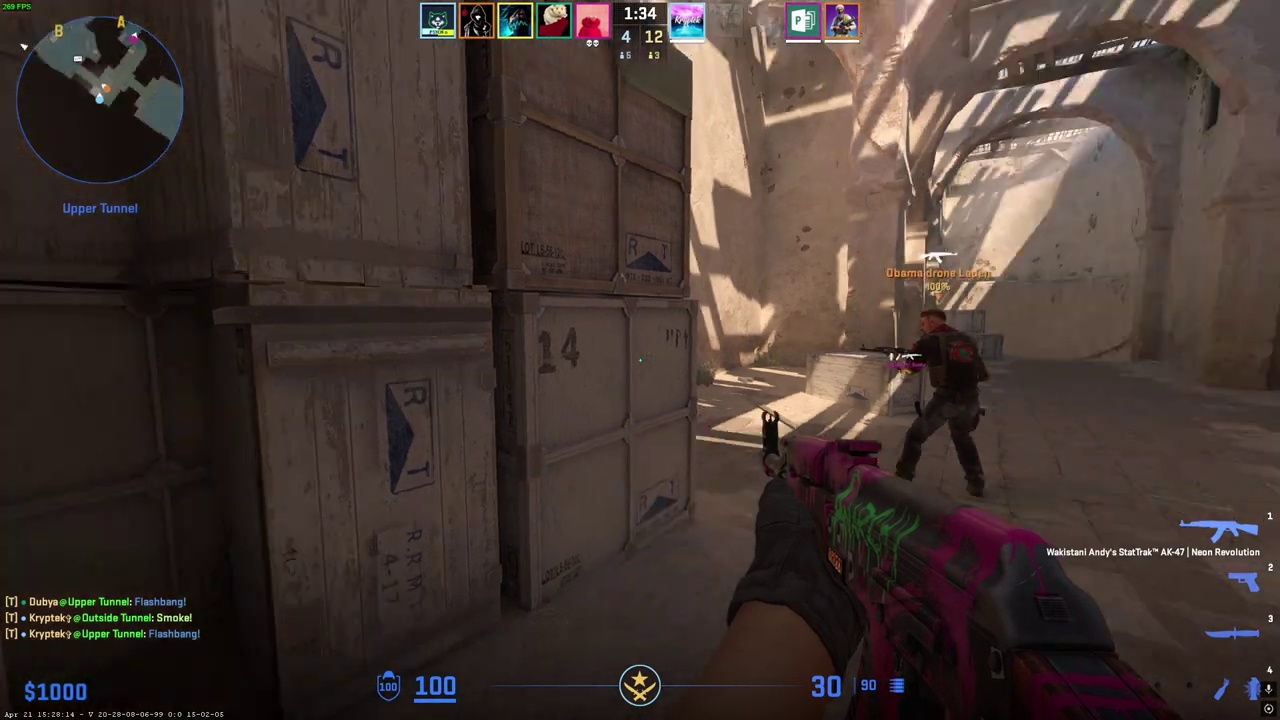Terrorist: (899, 308, 986, 497)
